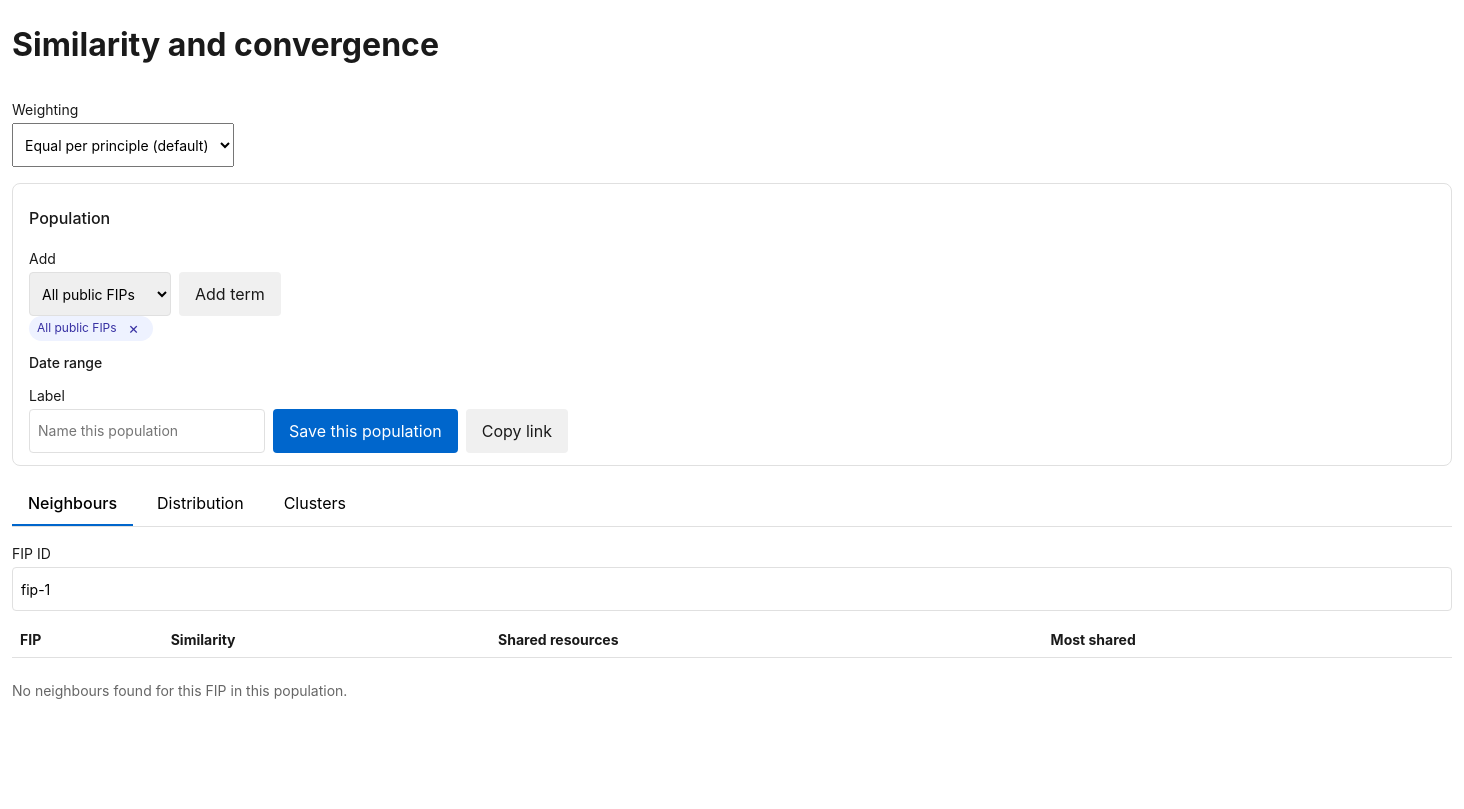
Test: DashboardSimilarity.vue (spec 13 §3.3/§4/§6.2) › caps cluster cards at 200 even when many are returned (spec 13 AC-2)
Click the tab "Clusters". click: (315, 504)
box: [268, 482, 362, 526]
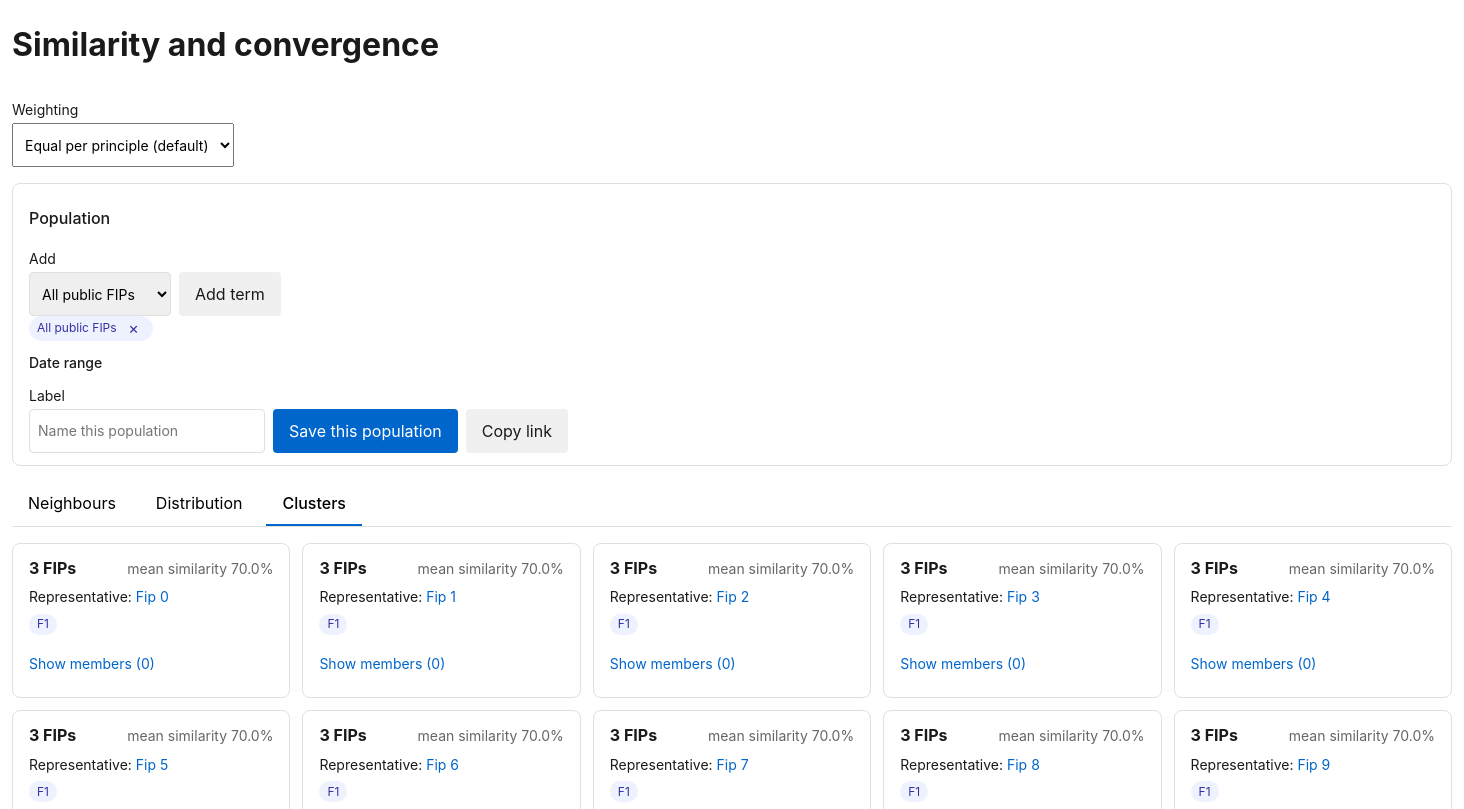
Now the number of elements with class "cluster-card" is 200
